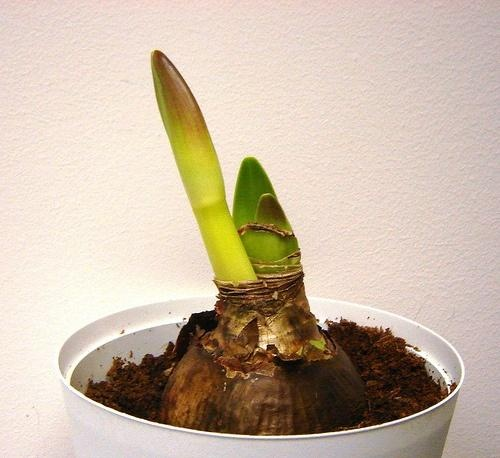pottedplant: (57, 47, 465, 458)
